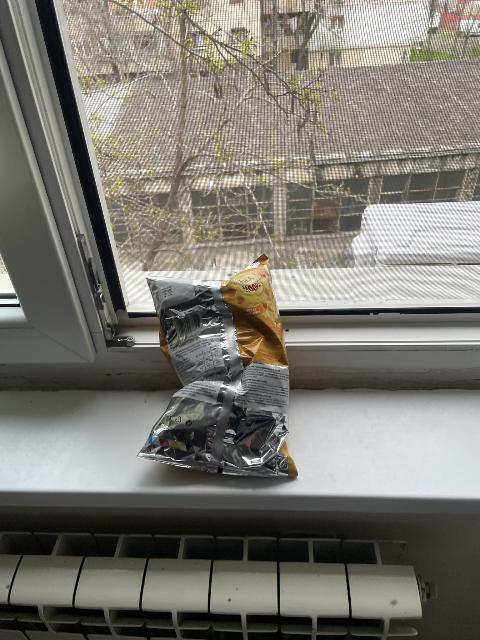Chio Hula Hoops Cheese 70g: (138, 263, 298, 470)
